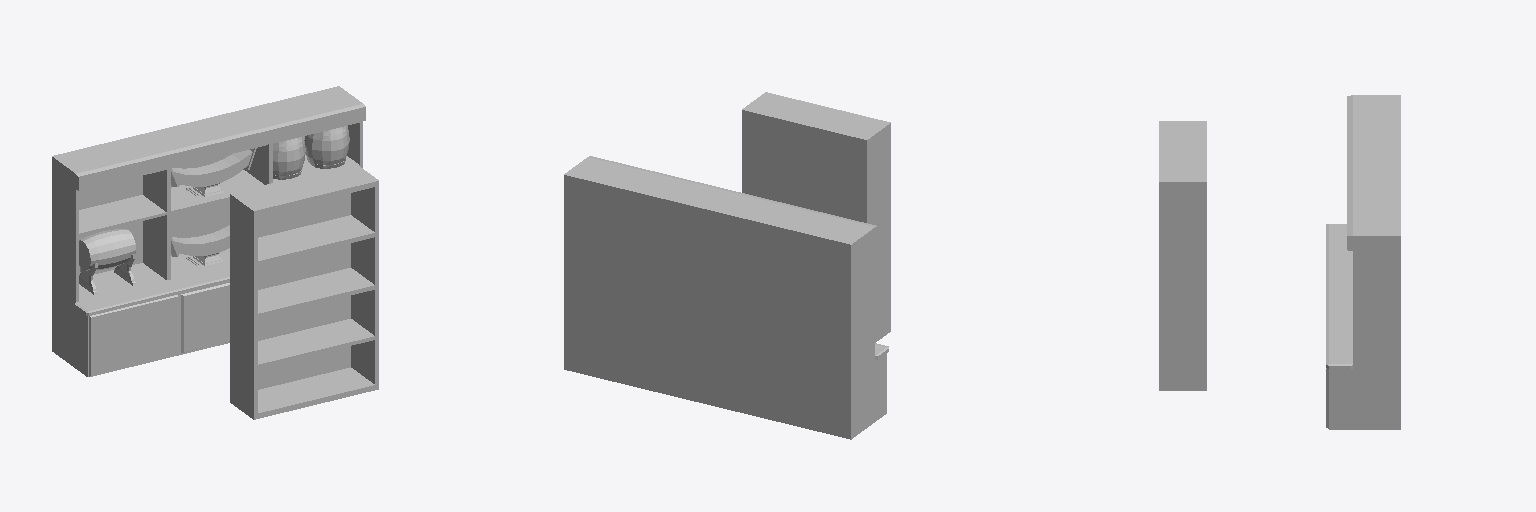
The model's file is New-Showcase.obj.
The picture shows the model from 3 angles: view 1: azimuth 30°, elevation 25°; view 2: azimuth 150°, elevation 25°; view 3: azimuth 270°, elevation 25°; orthographic projection.
Parts seen in each view (by area): view 1: cabinet, Cube.001, Klong_that-1.001, _Tapon, Ranad.001, Ranad; view 2: cabinet, Cube.001; view 3: cabinet, Cube.001.
Boxes of the visible parts, <box> form: cabinet: <box>52,86,365,376</box>; Cube.001: <box>230,163,378,419</box>; Klong_that-1.001: <box>273,126,349,179</box>; _Tapon: <box>79,229,136,294</box>; Ranad.001: <box>171,148,256,196</box>; Ranad: <box>171,225,229,265</box>; cabinet: <box>564,156,888,439</box>; Cube.001: <box>742,92,890,342</box>; cabinet: <box>1326,95,1400,429</box>; Cube.001: <box>1159,121,1206,390</box>.
Bounding box in the file's own units: 13.93 × 9.53 × 10.03.